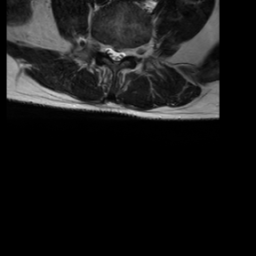CCS_severe_stenosis: (112, 42, 120, 69)
LFS_normal: (127, 41, 135, 61)
LLS_normal: (120, 41, 127, 63)
RFS_normal: (98, 34, 106, 58)
RLS_normal: (105, 38, 112, 63)
